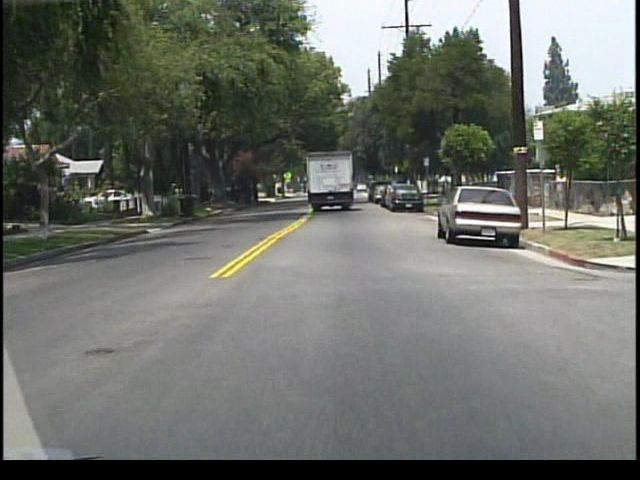person: (551, 170, 567, 210)
